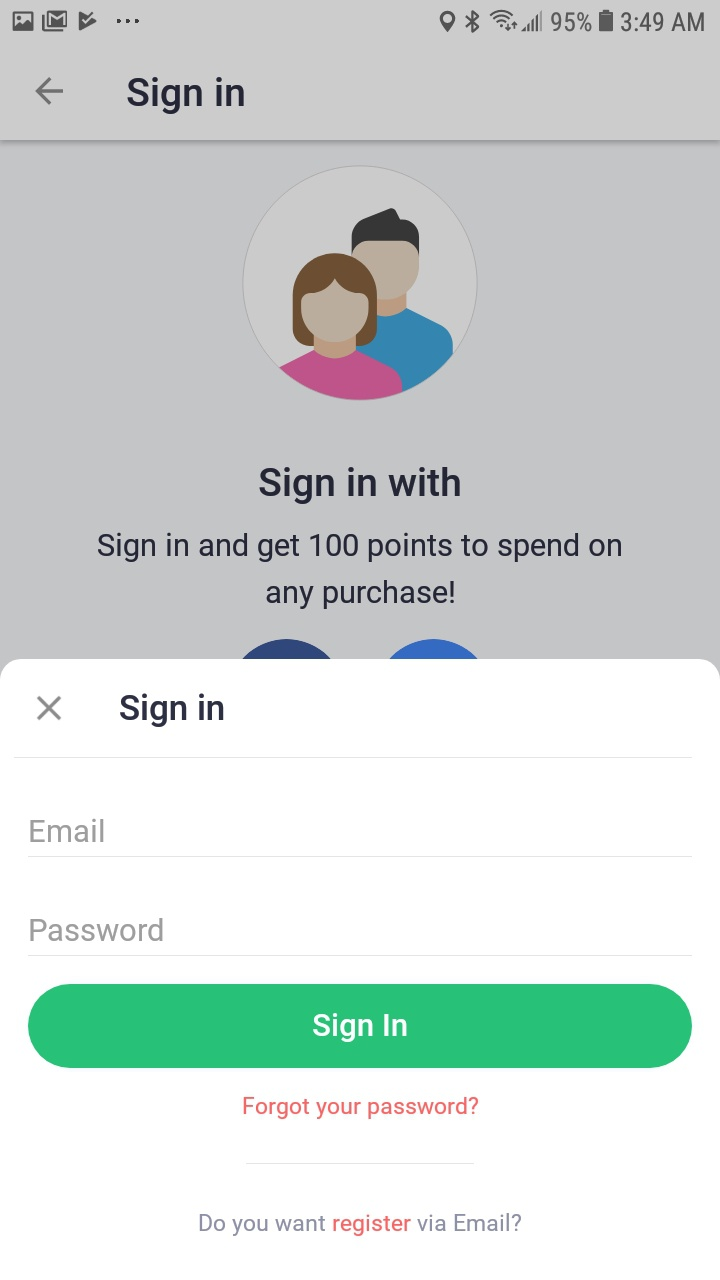EditText: (29, 917, 693, 957), (29, 818, 693, 858)
Icon: (34, 77, 65, 106), (37, 695, 63, 721)
Image: (241, 165, 479, 402)
Modal: (2, 658, 720, 1280)
Text: (98, 532, 623, 611), (199, 1212, 522, 1237), (259, 466, 462, 505), (244, 1095, 480, 1120), (127, 77, 246, 116), (120, 692, 225, 728), (31, 917, 164, 942), (30, 819, 104, 844)
TextButton: (28, 984, 693, 1070)
UpperTaskBar: (1, 1, 720, 36)
